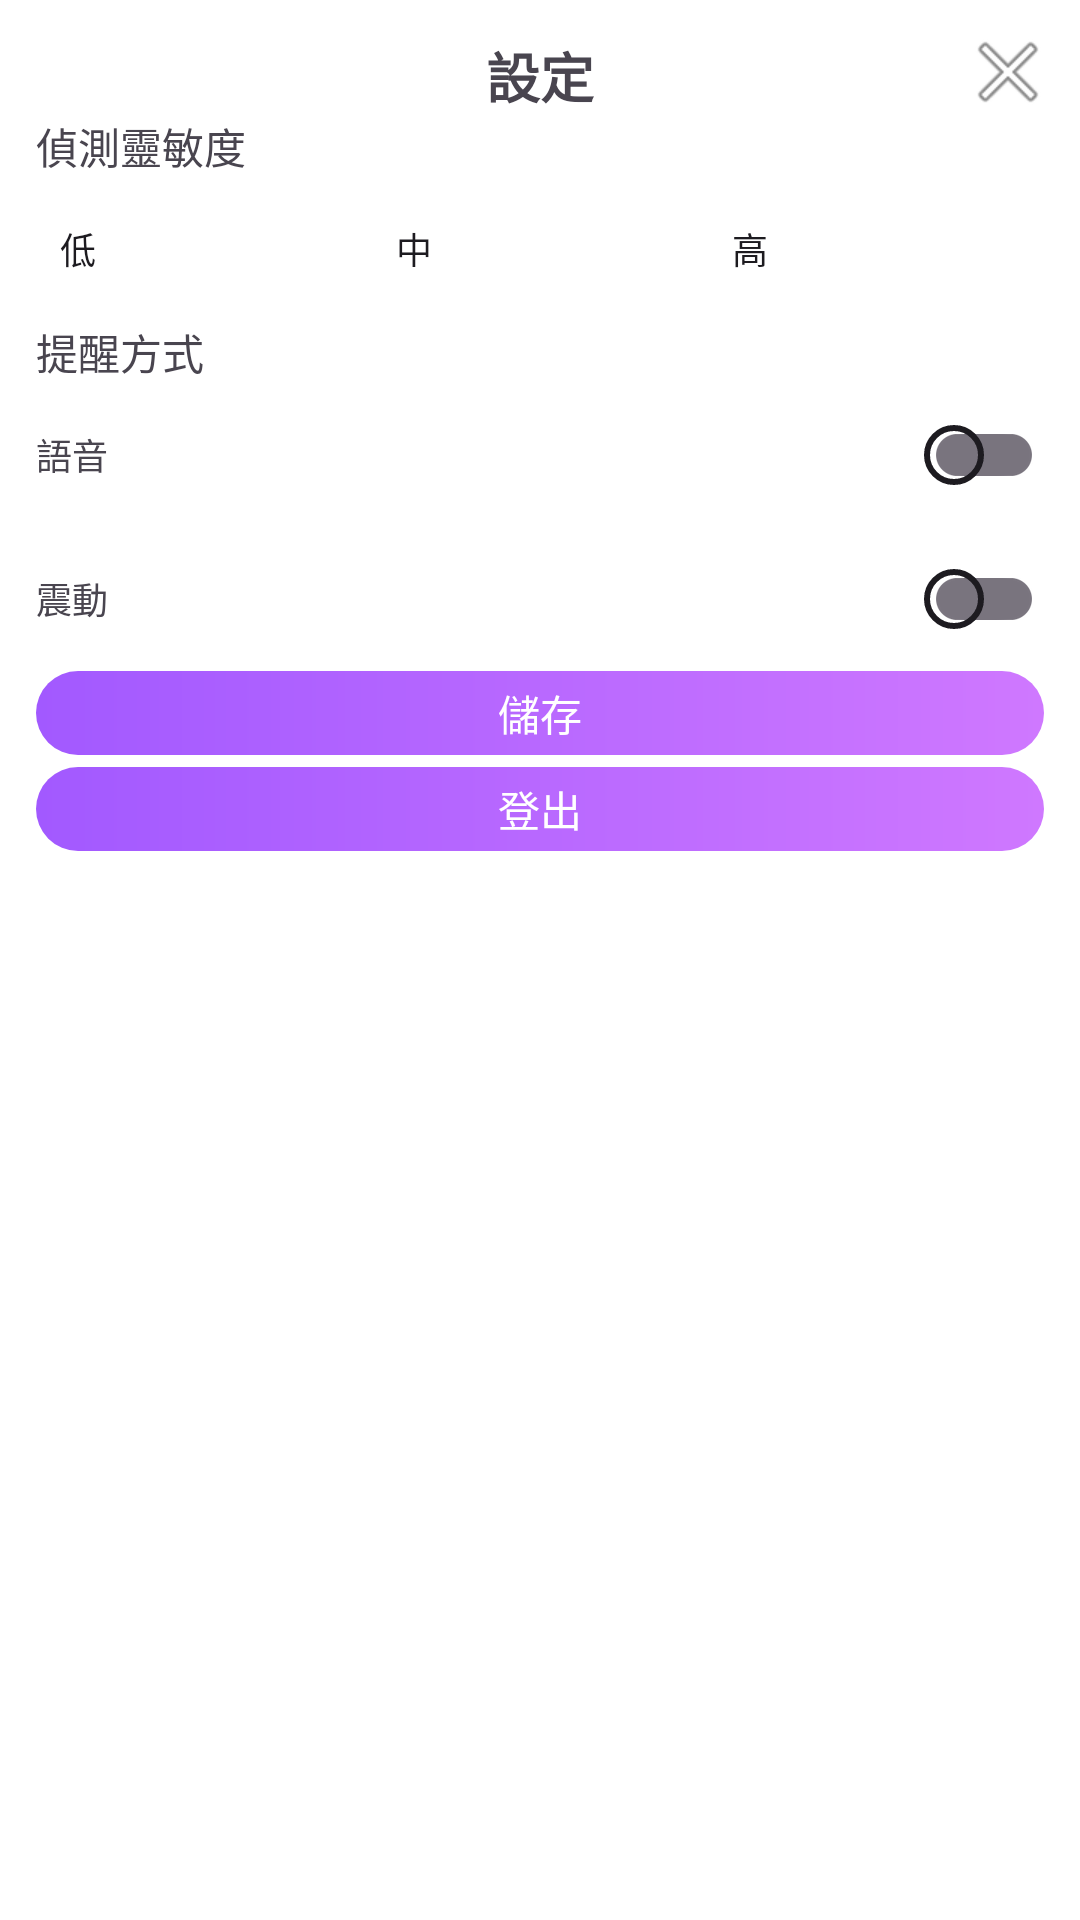

Locate icon controls on the screen. Image size 1080 x 1920, boxes as bbox(x1, y1, x2, y2).
關閉: bbox(978, 42, 1038, 102)
